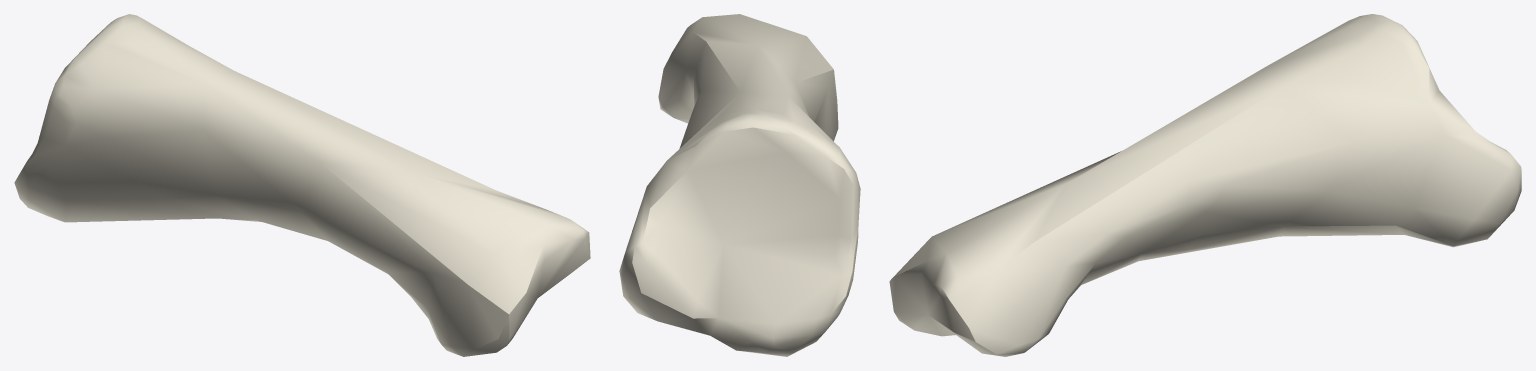
File: fma32637_fj3311.glb
3 renders of one model, left to right at view 1: azimuth 30°, elevation 25°; view 2: azimuth 150°, elevation 25°; view 3: azimuth 270°, elevation 25°, orthographic. The views are drawn at different scales.
Visible parts, largest first — view 1: FMA32637_FJ3311; view 2: FMA32637_FJ3311; view 3: FMA32637_FJ3311.
Part boxes in pixels (<box>): FMA32637_FJ3311: <box>14,14,590,356</box>; FMA32637_FJ3311: <box>619,14,860,356</box>; FMA32637_FJ3311: <box>889,14,1521,356</box>.
Bounding box in the file's own units: 0.0207 × 0.0118 × 0.0282.
